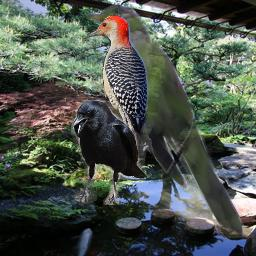Crow: (71, 100, 146, 205)
Cuckoo: (86, 4, 252, 239)
Woodpecker: (83, 14, 148, 160)
